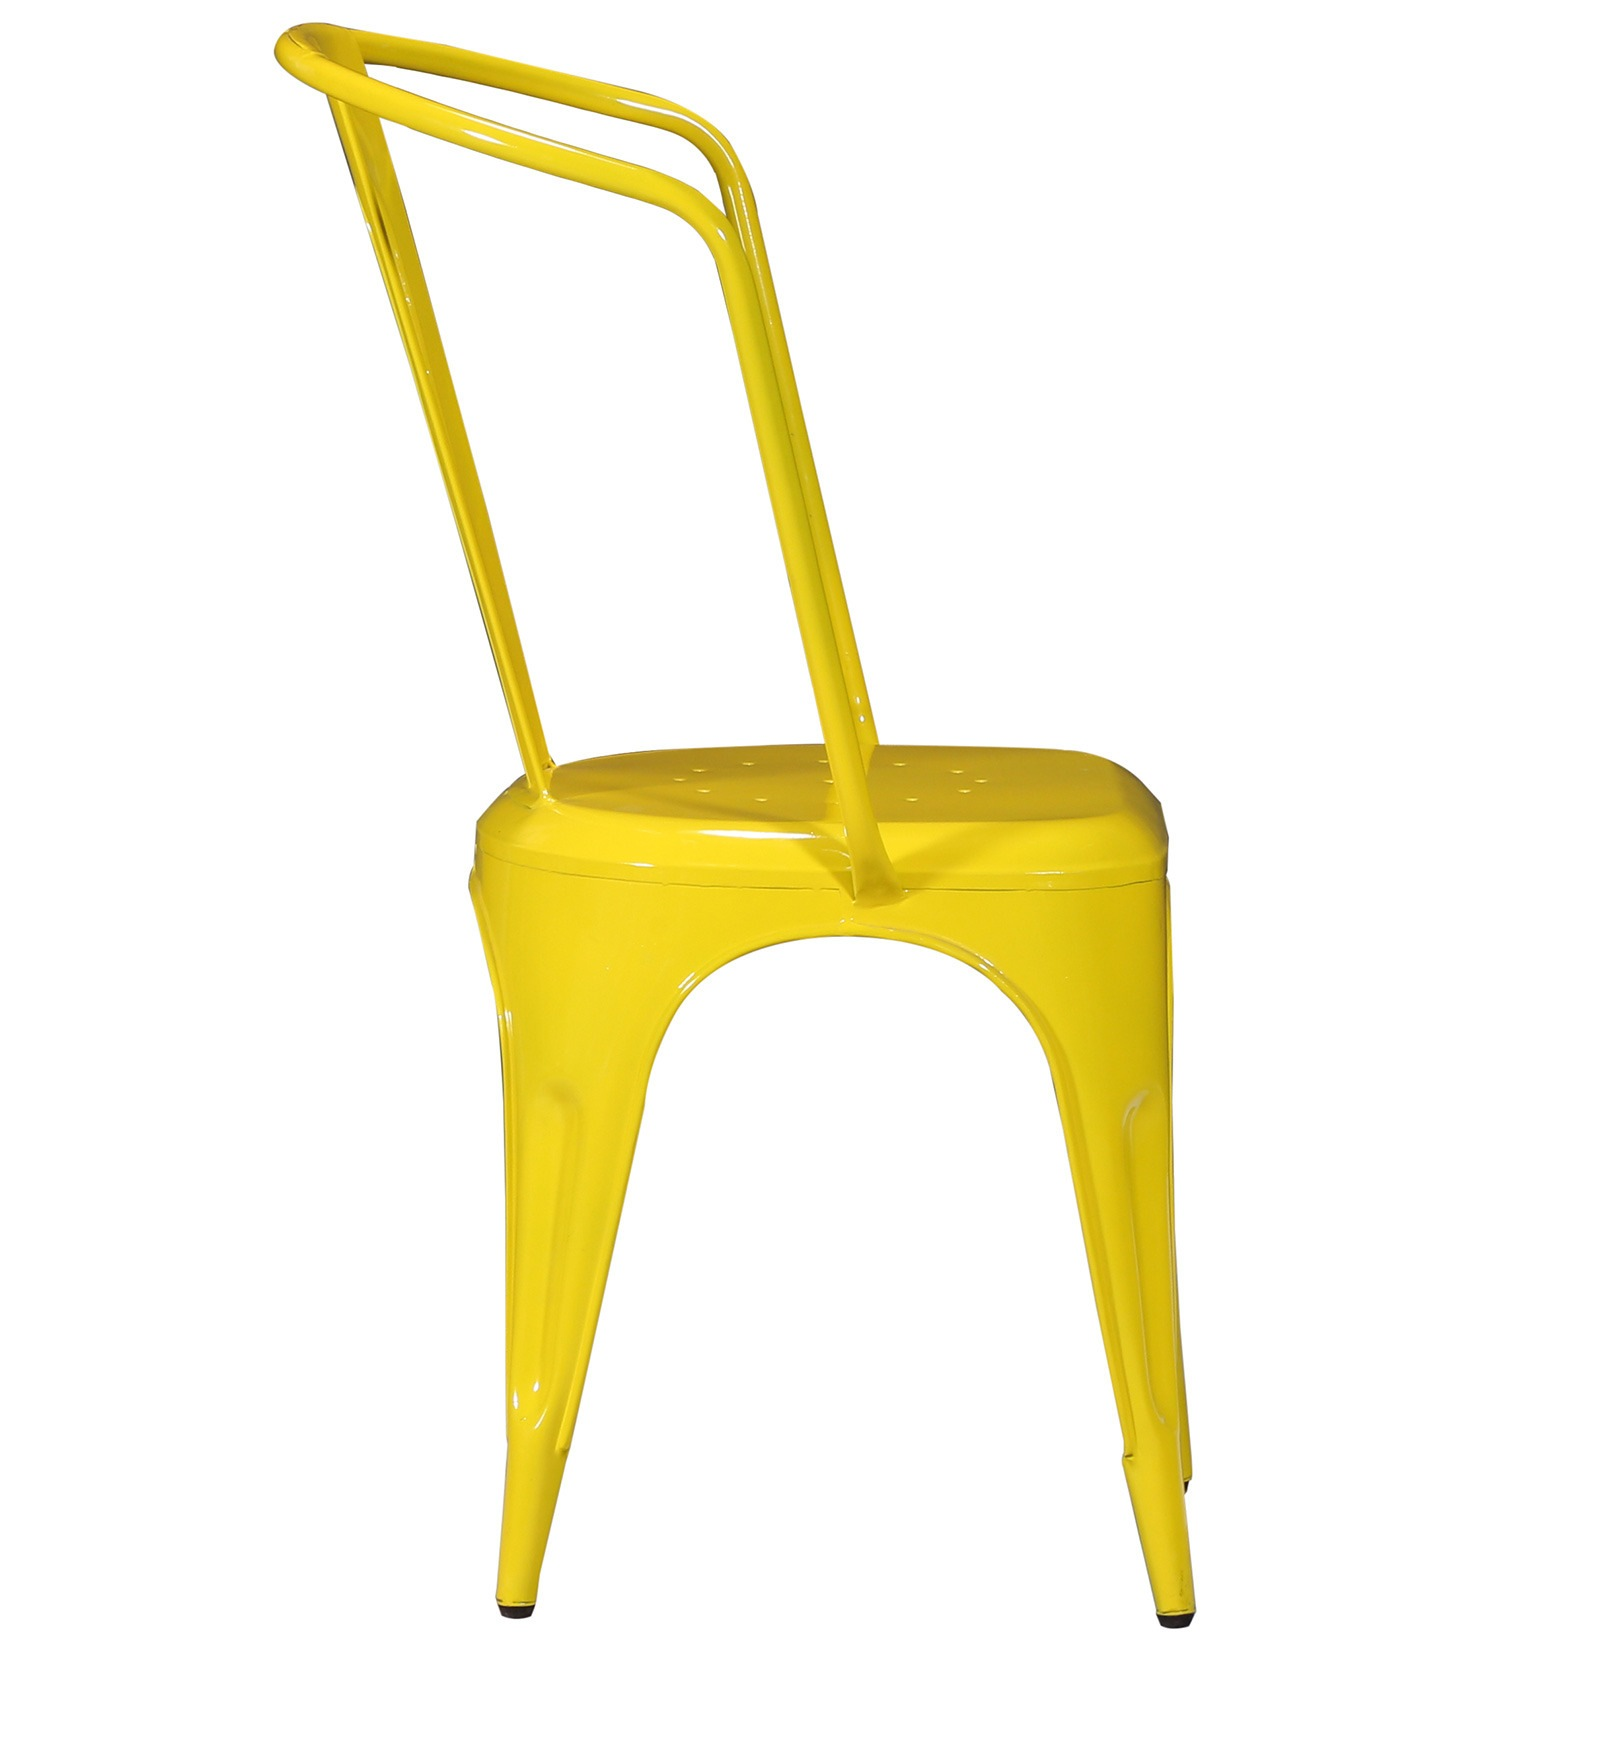Ekati Metal Chair in Yellow Color by Bohemiana: (221, 5, 1329, 1720)
